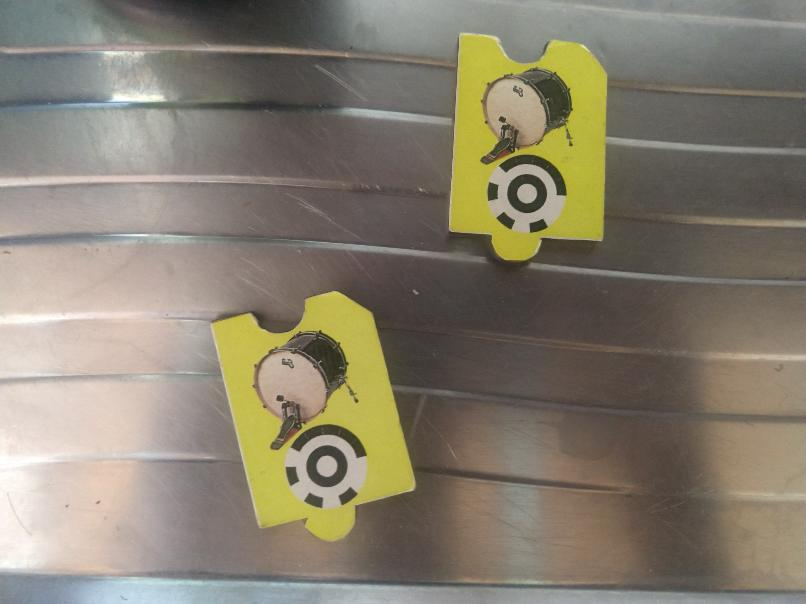bumbo: (205, 286, 419, 552), (444, 27, 610, 275)
